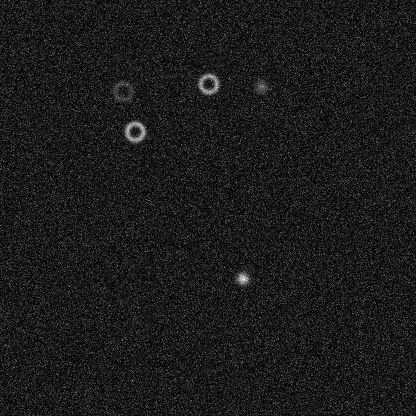Ring: (196, 71, 220, 95), (122, 119, 146, 143), (110, 79, 134, 103)
Spot: (253, 78, 269, 94), (234, 270, 250, 286)
